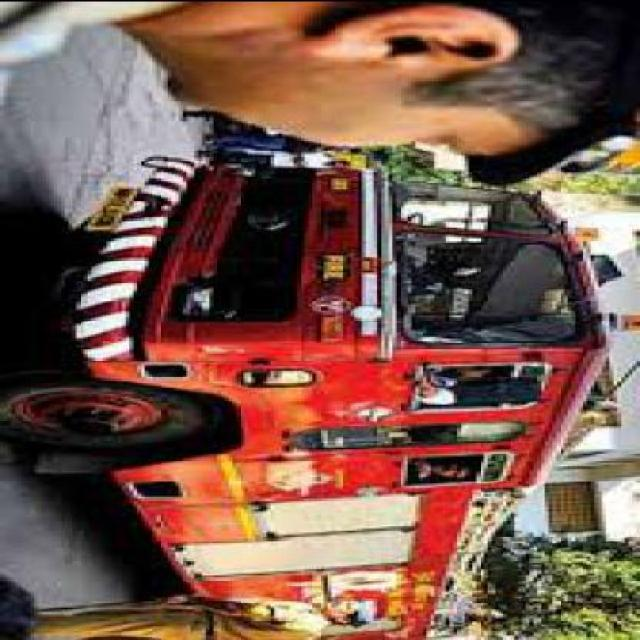Fire Truck: (23, 173, 591, 638)
